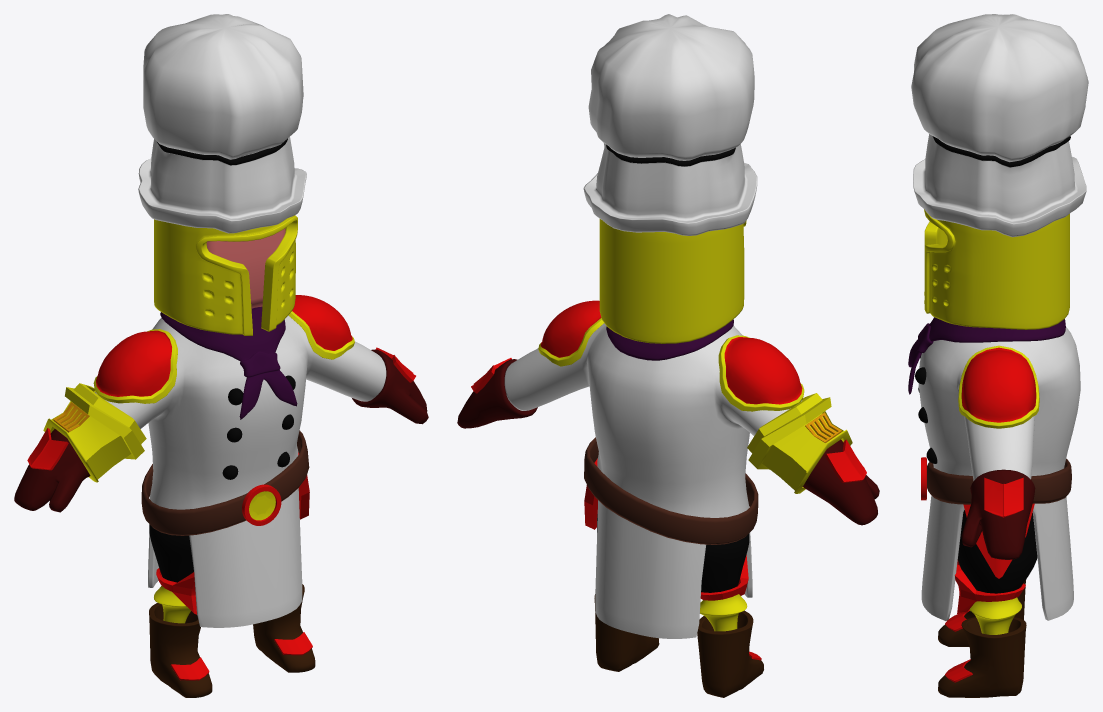
File: ironChef.fbx
The picture shows the model from 3 angles, left to right: view 1: azimuth 30°, elevation 25°; view 2: azimuth 150°, elevation 25°; view 3: azimuth 270°, elevation 25°; orthographic projection.
Visible parts, largest first — view 1: ironChefUV; view 2: ironChefUV; view 3: ironChefUV.
Part boxes in pixels (<box>): ironChefUV: <box>14,14,428,697</box>; ironChefUV: <box>457,14,879,697</box>; ironChefUV: <box>908,14,1088,697</box>.
Size of the model in its own units: 362 by 543 by 139.
